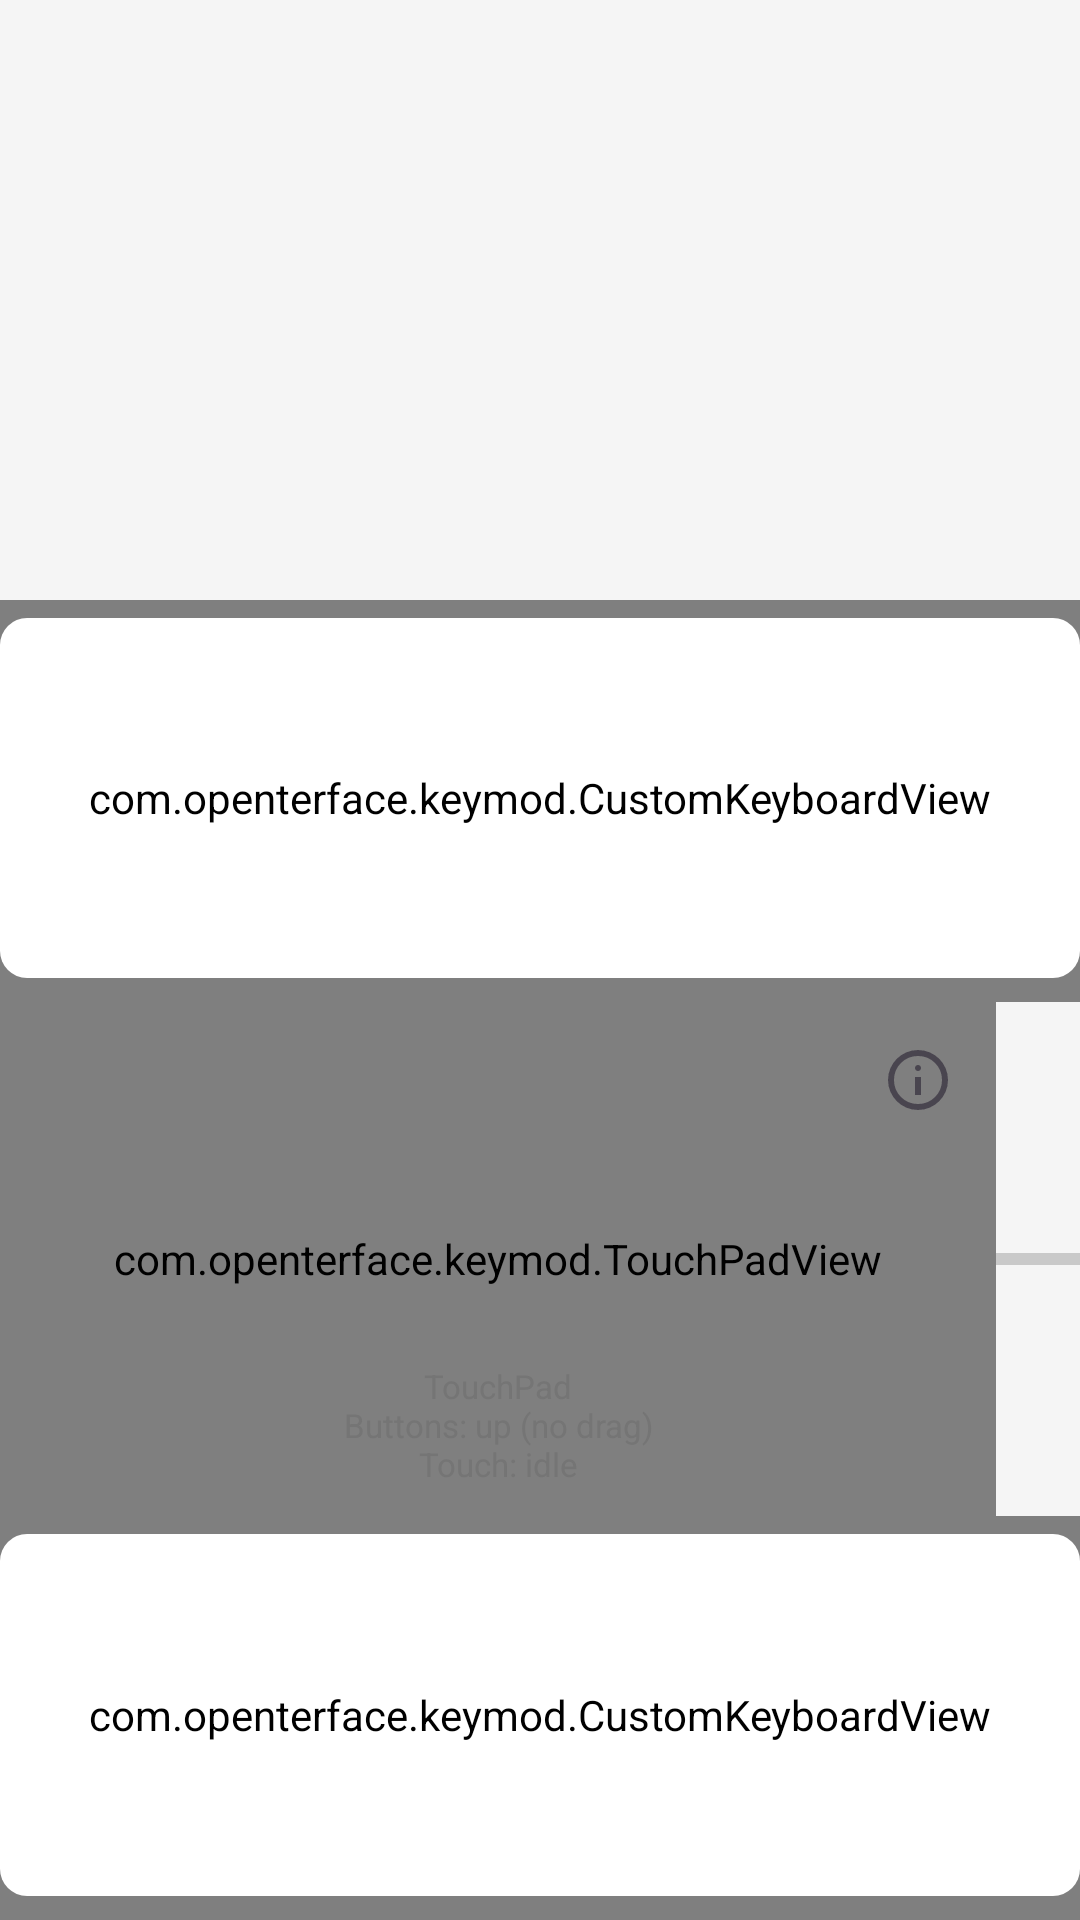

Icon click points for this 1080*1920 phone screenshot, format (x,y):
Show touchpad gesture help: (918,1080)
